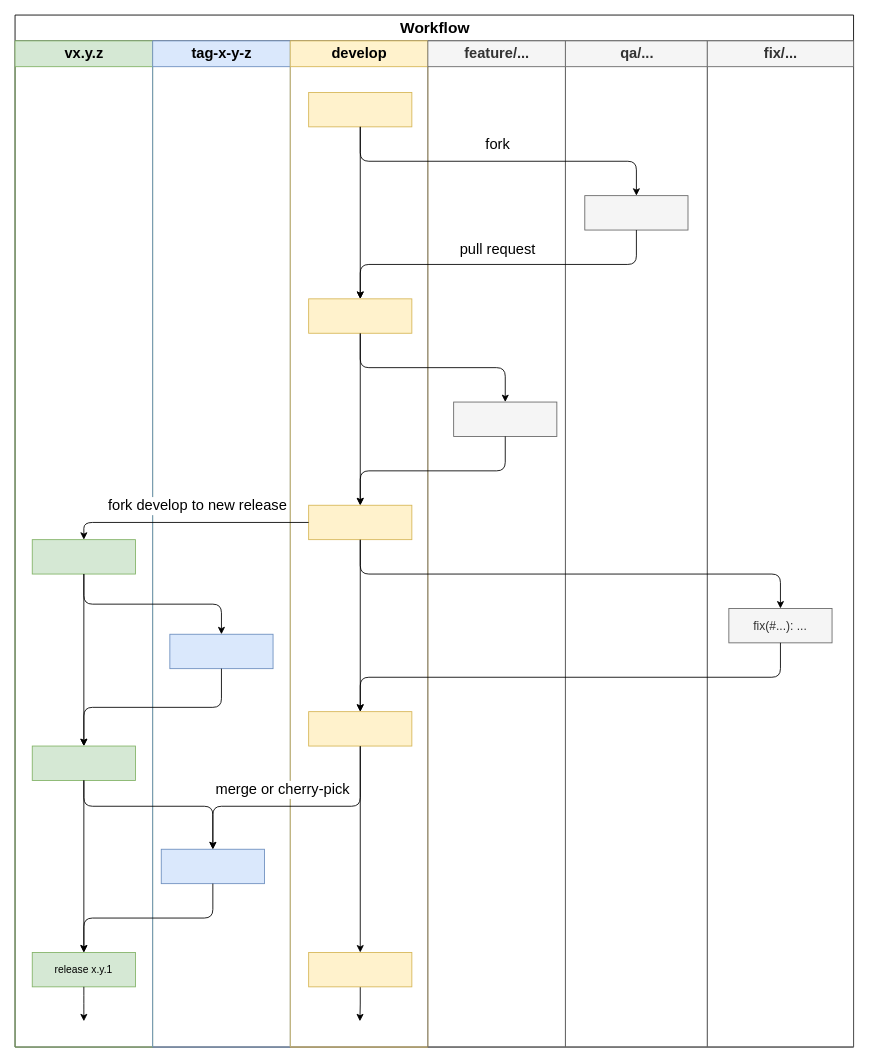
Some shapes in this 869 by 1062 pixel diagram are drawn without their labels. Here are the shapes that lost their labels. From the top down, the centre of each, then its label:
At (x=636, y=212): "chore(#...): ...".
At (x=505, y=418): "feat(#...): ...".
At (x=221, y=651): "tag x.y.0".
At (x=83, y=762): "release x.y.0".
At (x=212, y=866): "tag x.y.1".
